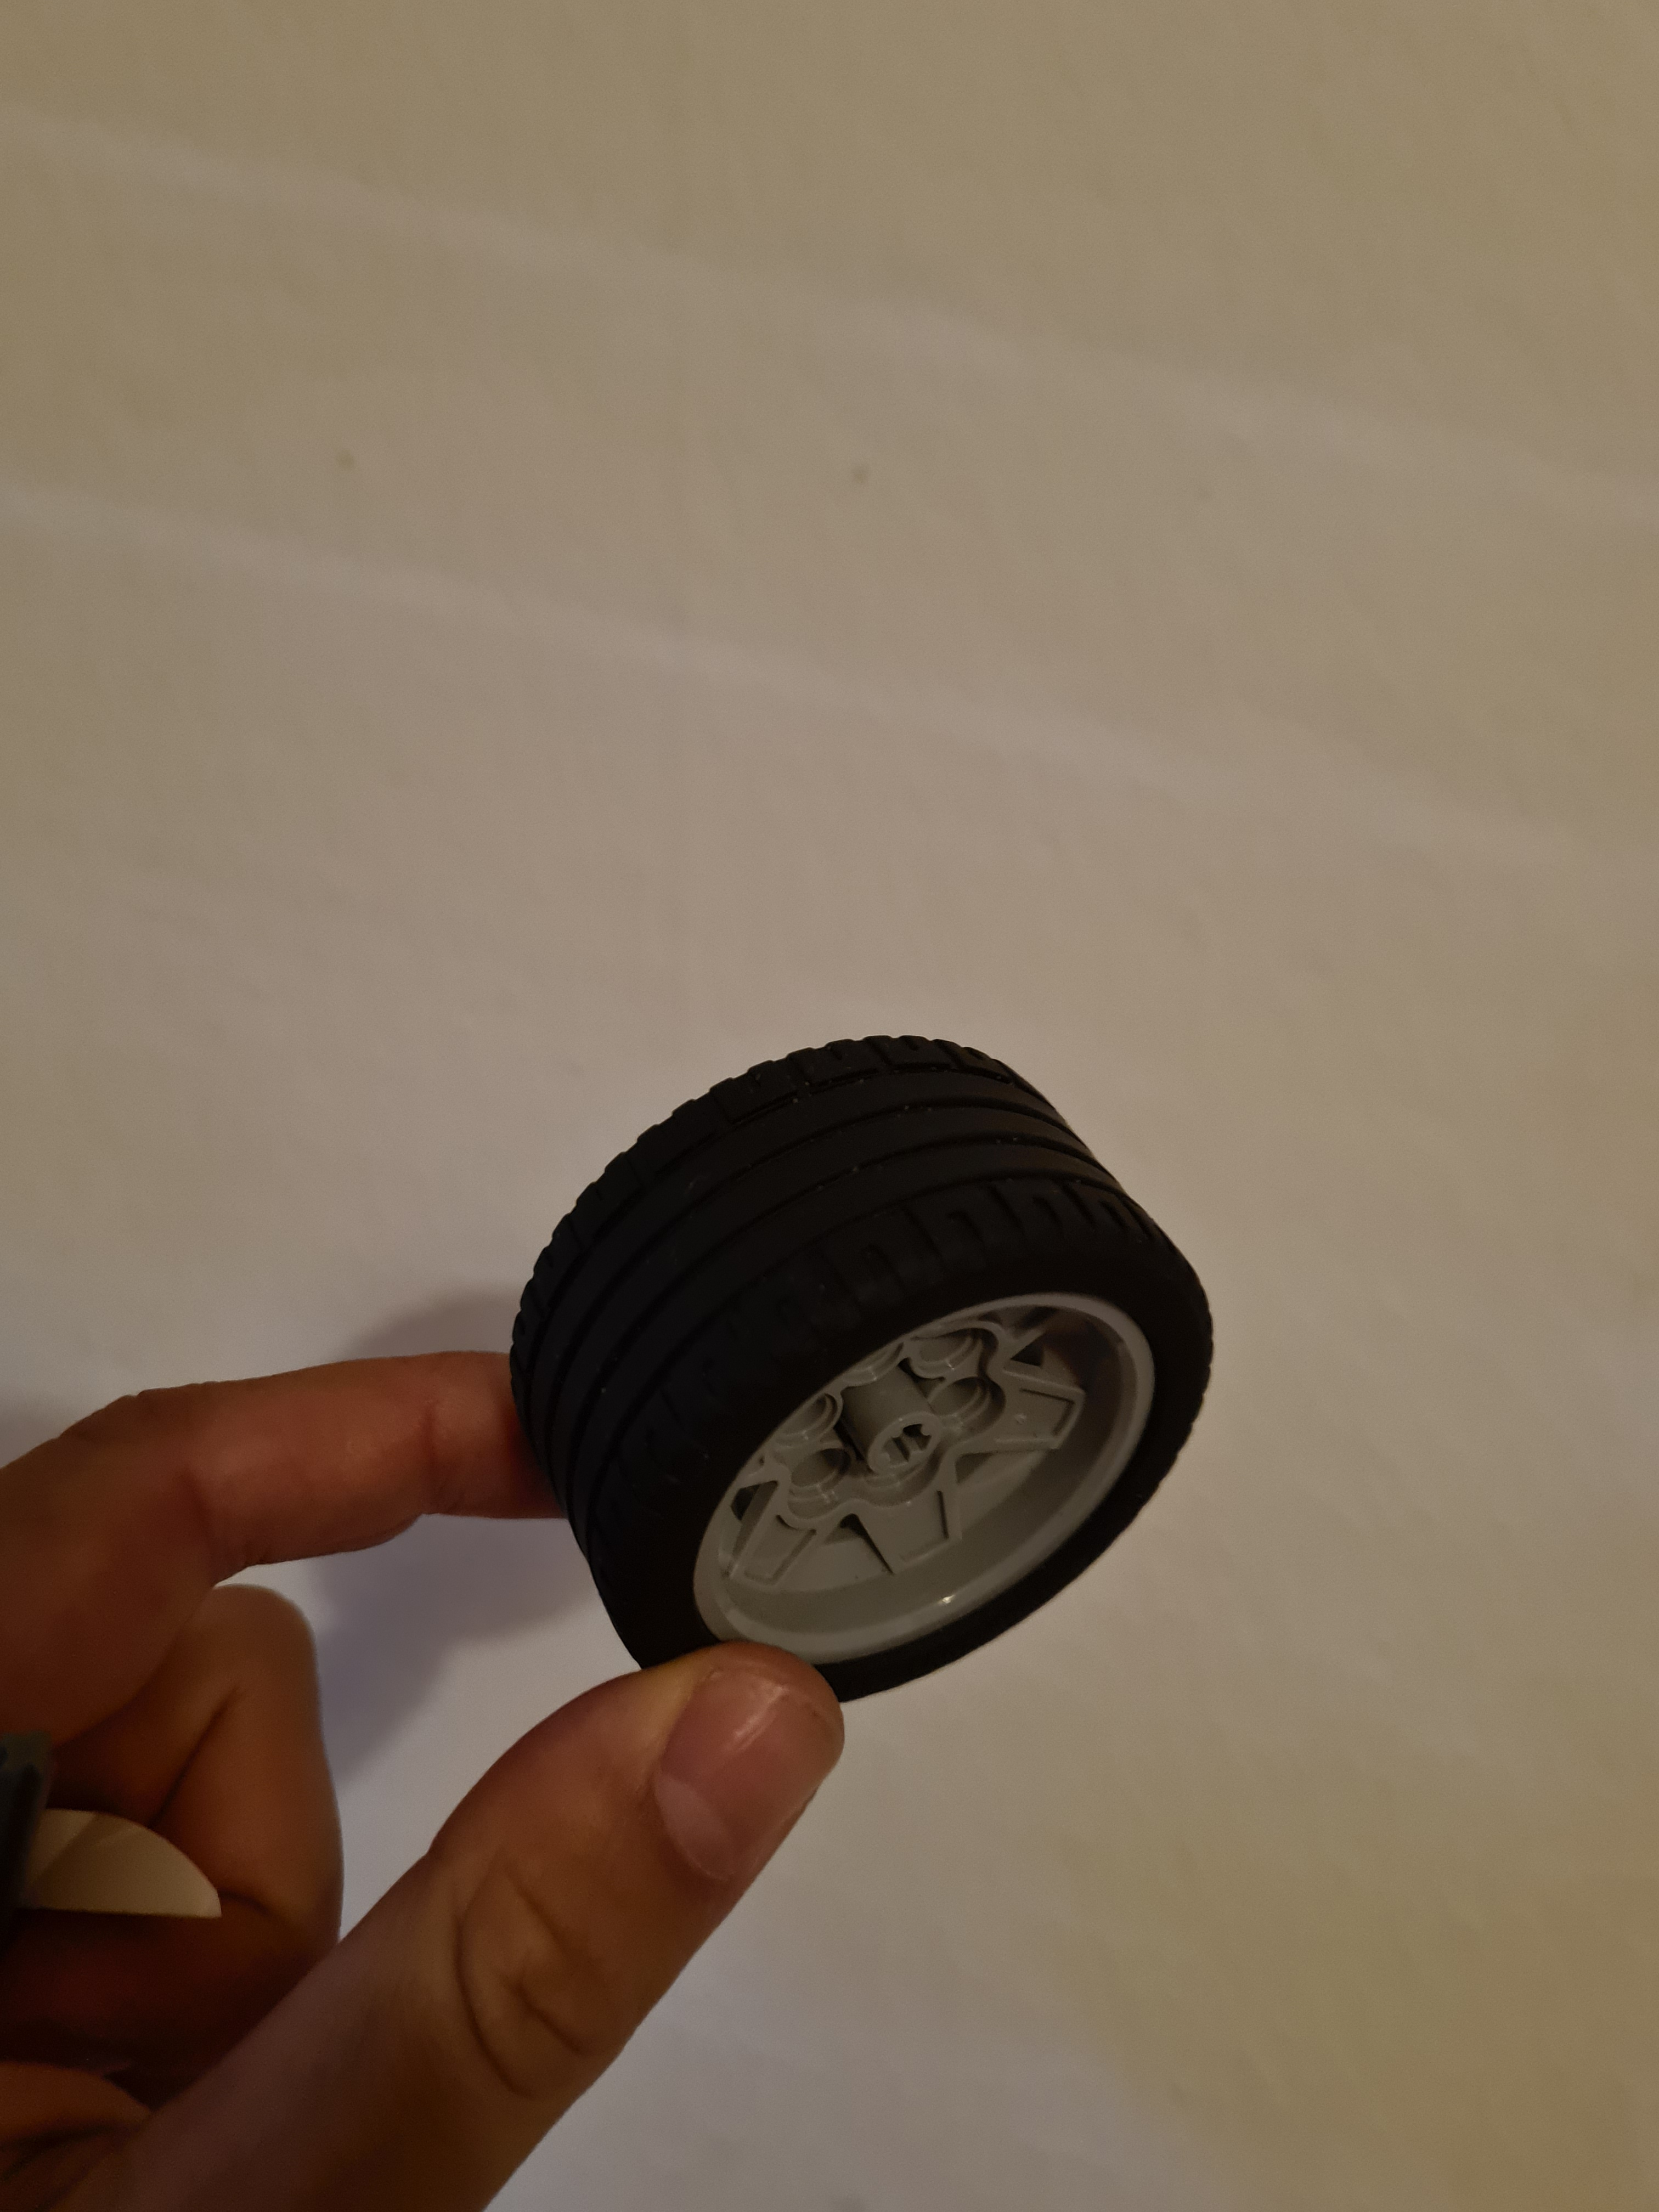Rad: (477, 951, 1249, 1752)
